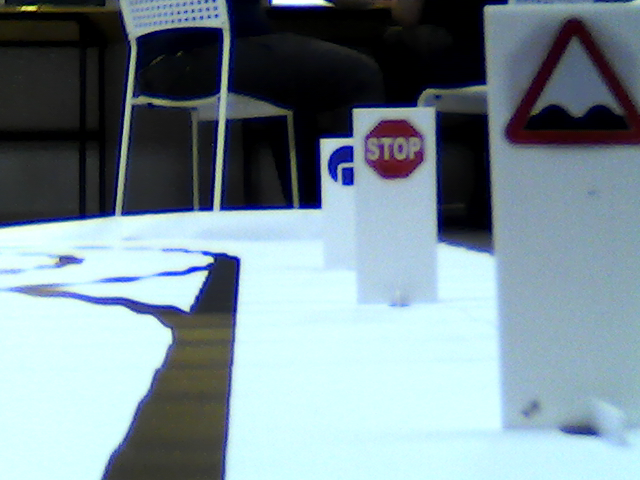Nerov: (501, 13, 640, 161)
Stop: (363, 114, 425, 181)
